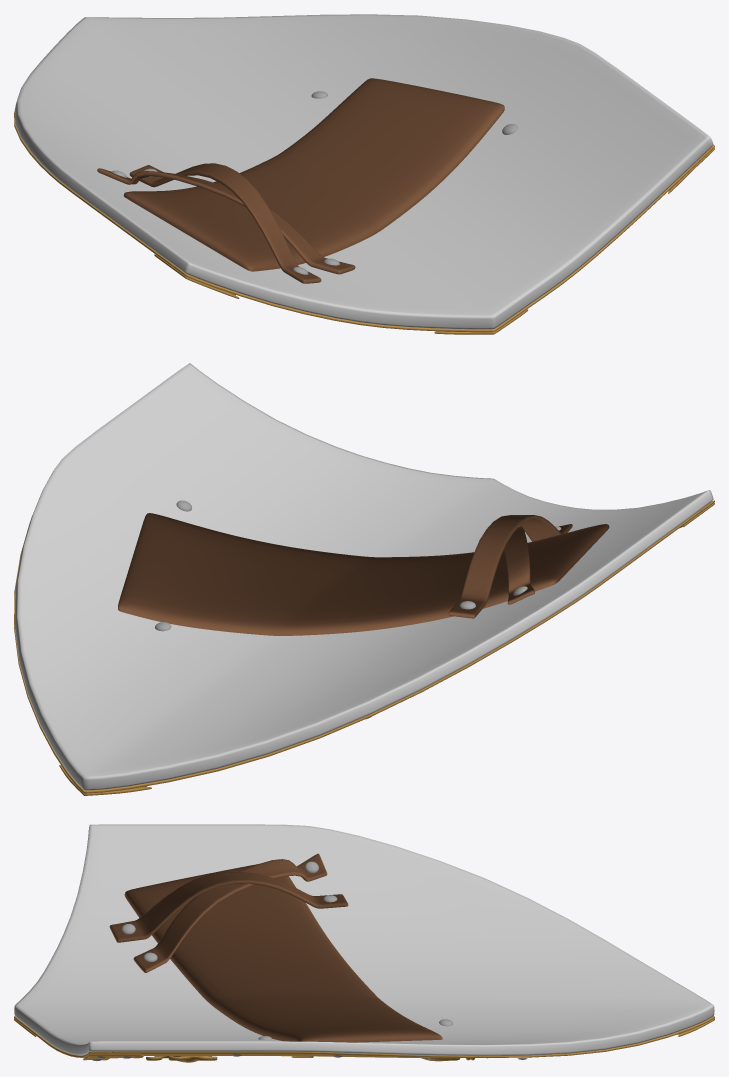
File: shield.obj
3 views of the same model, one above another, from view 1: azimuth 30°, elevation 25°; view 2: azimuth 150°, elevation 25°; view 3: azimuth 270°, elevation 25° (orthographic). The views are drawn at different scales.
Visible parts, largest first — view 1: 13036_Heater_Shield_v2_l2; view 2: 13036_Heater_Shield_v2_l2; view 3: 13036_Heater_Shield_v2_l2.
Boxes of the visible parts, bbox=[...] form: 13036_Heater_Shield_v2_l2: bbox=[14, 14, 714, 334]; 13036_Heater_Shield_v2_l2: bbox=[14, 363, 714, 795]; 13036_Heater_Shield_v2_l2: bbox=[14, 824, 714, 1062].
Size of the model in its own units: 19.35 by 3.64 by 25.96.
